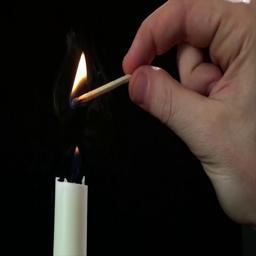fire: (72, 52, 89, 98)
